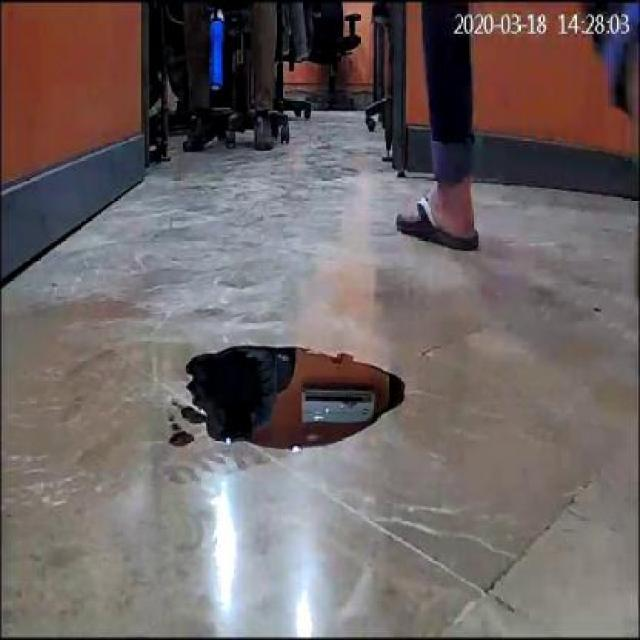spill: (186, 341, 405, 448)
